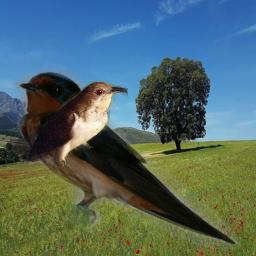Cuckoo: (10, 81, 128, 167)
Swallow: (13, 68, 241, 249)
